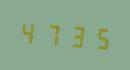five: (87, 21, 109, 53)
four: (18, 16, 40, 48)
seven: (41, 18, 63, 49)
three: (64, 20, 86, 51)
